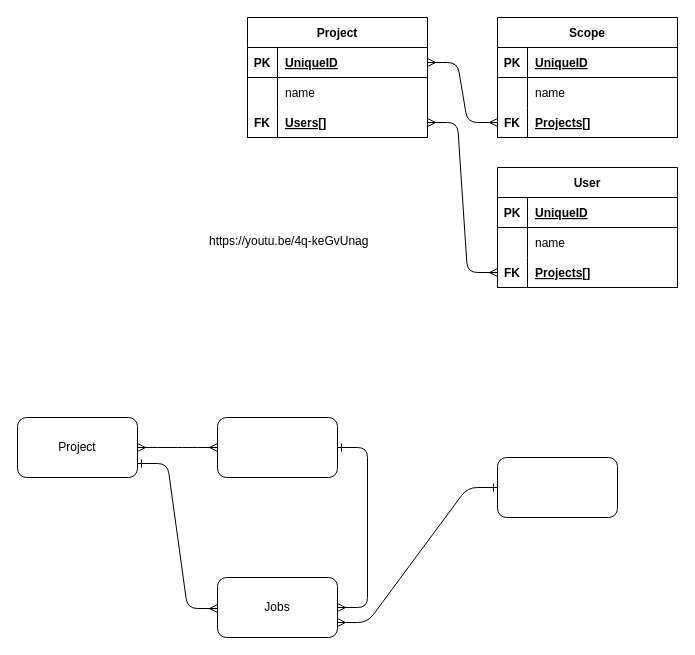
Image size: 695x655. Some labels were removed from this diagram. Each missing label, with the centre of its shape:
"DataSet" belongs at (557,487).
"Users" belongs at (277,447).
